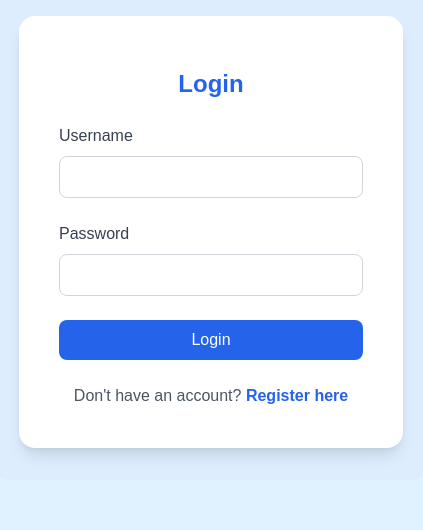
UserLoginForm › shows error message on login failure
In the field labelled "Username": (211, 177) 59,156 -> 363,198, type "testuser"
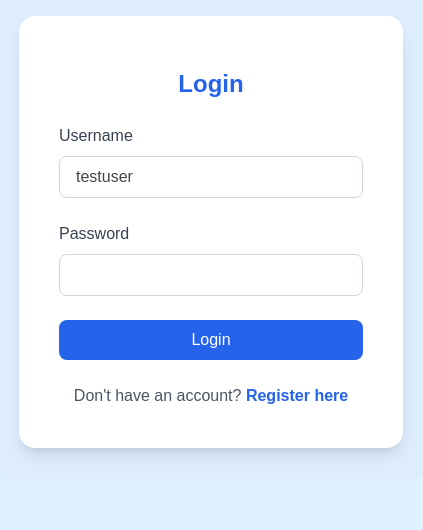
In the password field labelled "Password": (211, 275) 59,254 -> 363,296, type "wrongpassword"
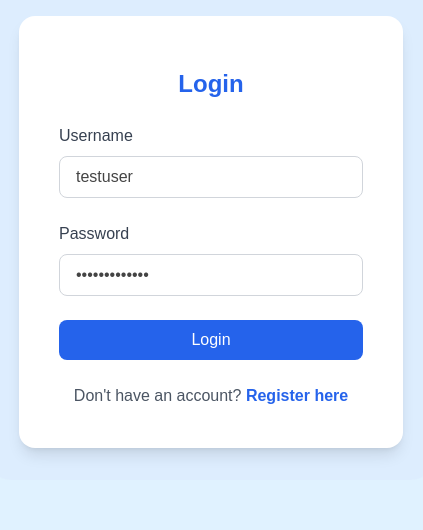
Click the button "Login": (211, 340) 59,320 -> 363,360
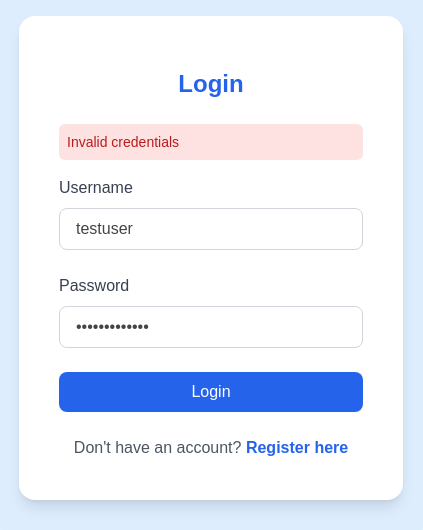
expect the list item "Invalid credentials" is shown: met, box 59,124 -> 363,160
